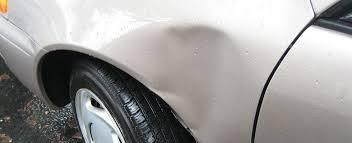dent: (155, 20, 248, 69)
